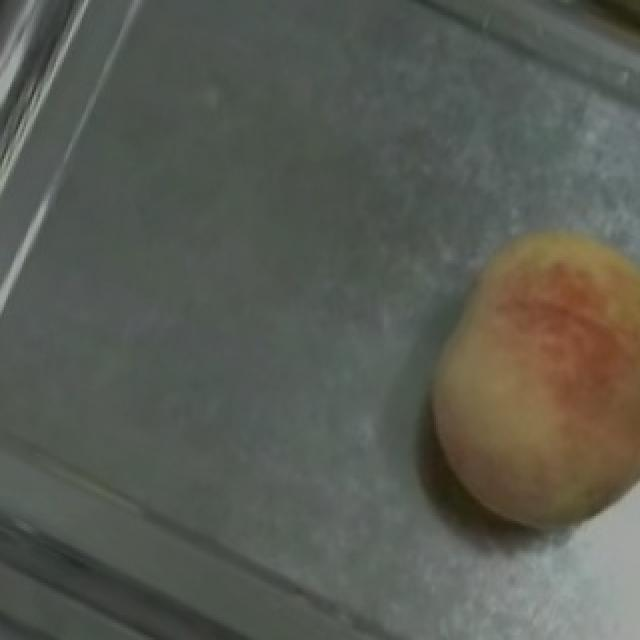Fruit: (382, 186, 640, 561)
